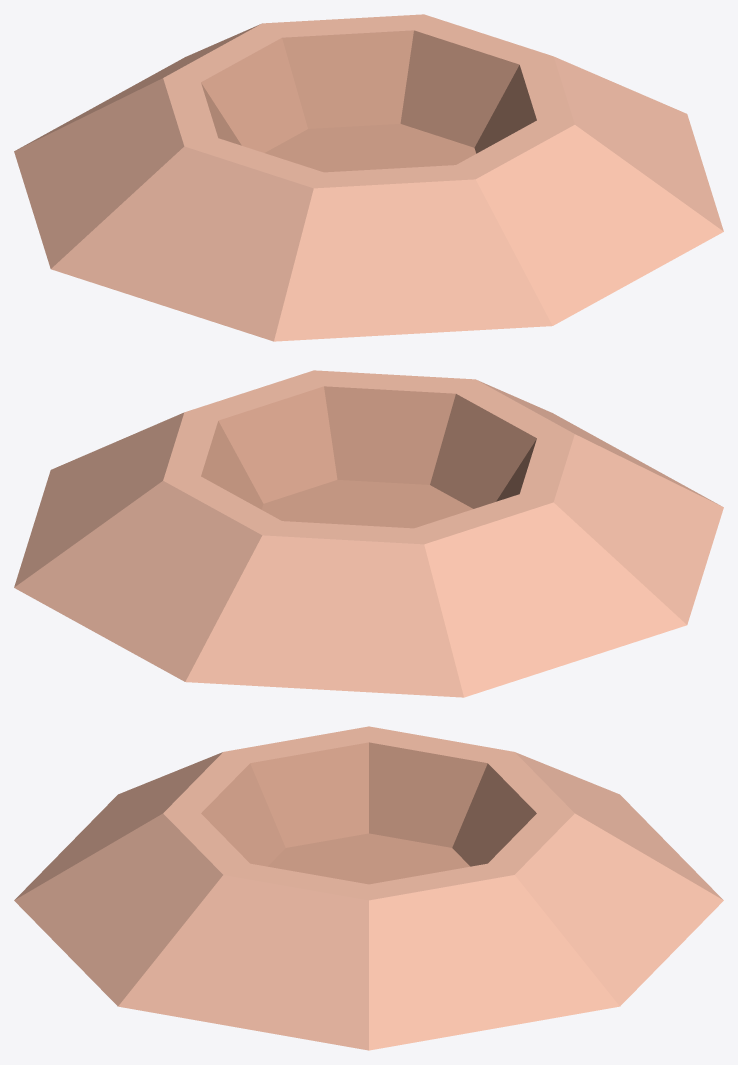
The model's file is craterLarge.glb.
The picture shows the model from 3 angles, top to bottom: view 1: azimuth 30°, elevation 25°; view 2: azimuth 150°, elevation 25°; view 3: azimuth 270°, elevation 25°; orthographic projection. The views are drawn at different scales.
Visible parts, largest first — view 1: craterLarge; view 2: craterLarge; view 3: craterLarge.
Boxes of the visible parts, x1,y1,x2,y2 form: craterLarge: (14,14,723,341); craterLarge: (14,370,723,697); craterLarge: (14,726,723,1050).
Bounding box in the file's own units: 0.886 × 0.12 × 0.886.
